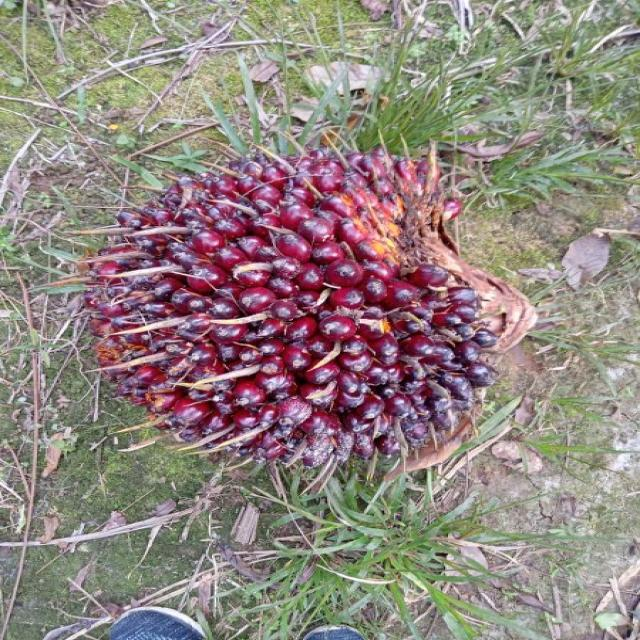fraksi 1: (30, 119, 583, 500)
